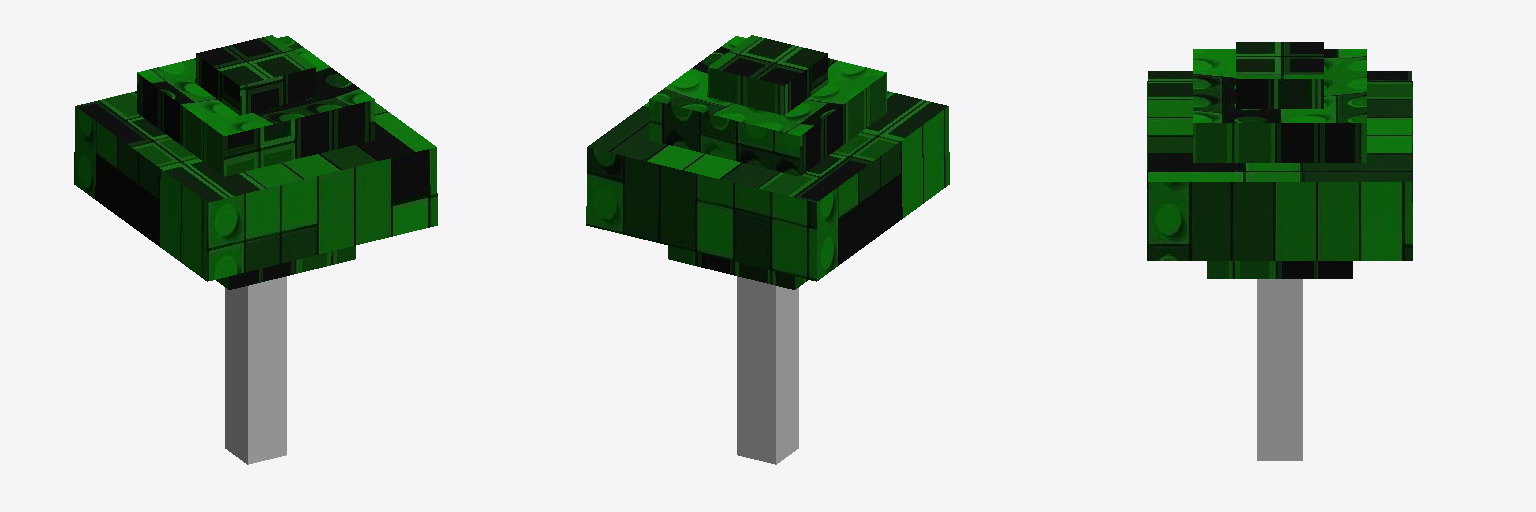
3 renders of one model, left to right at view 1: azimuth 30°, elevation 25°; view 2: azimuth 150°, elevation 25°; view 3: azimuth 270°, elevation 25°, orthographic.
Visible parts, largest first — view 1: hojas_Cube.006, tronco__Cube.005; view 2: hojas_Cube.006, tronco__Cube.005; view 3: hojas_Cube.006, tronco__Cube.005.
Part boxes in pixels (x1,y1,x2,y2): hojas_Cube.006: (74,35,437,289); tronco__Cube.005: (225,276,286,464); hojas_Cube.006: (586,35,949,289); tronco__Cube.005: (737,276,798,464); hojas_Cube.006: (1147,42,1412,278); tronco__Cube.005: (1257,279,1302,460).
Size of the model in its own units: 11.56 by 18.73 by 11.56.
Materials: 2 (1 with a texture image).